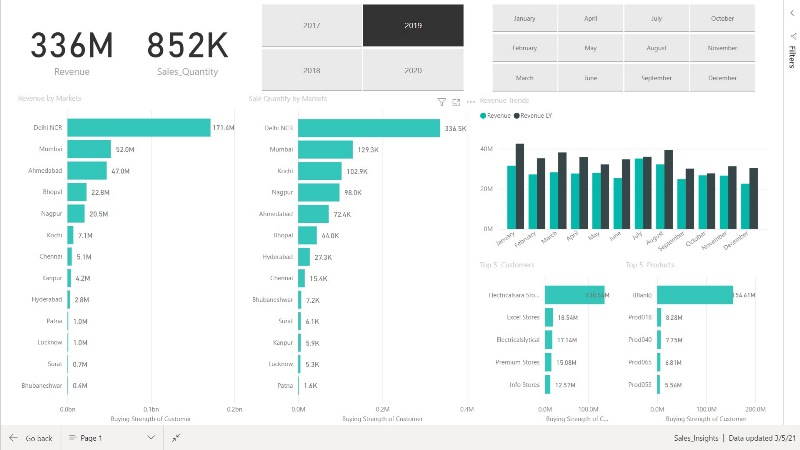

The page's visual inventory and layout, read from the dashboard file:
{"tool":"powerbi","page":{"name":"Page 1","canvas":[1280,720],"ordinal":0},"visuals":[{"type":"card","fields":{"Values":["BaseMeasures.Revenue"]},"box":[0,0,196.2,157.2],"z":0},{"type":"card","fields":{"Values":["BaseMeasures.Sales_Quantity"]},"box":[196.2,0,196.2,157.2],"z":1000},{"type":"barChart","title":"Revenue by Markets","fields":{"Y":["BaseMeasures.Revenue"],"Category":["sales markets.markets_name"]},"box":[1.4,157.2,391,563.5],"z":2000},{"type":"barChart","title":"Sale Quantity by Markets","fields":{"Category":["sales markets.markets_name"],"Y":["BaseMeasures.Sales_Quantity"]},"box":[392.6,157.5,391.4,562.5],"z":3000},{"type":"slicer","fields":{"Values":["sales date.year"]},"box":[393.2,0,391.8,160.9],"z":4000},{"type":"slicer","fields":{"Values":["sales date.cy_date.Variation.Date Hierarchy.Month"]},"box":[784,0,494.8,161.2],"z":5000},{"type":"barChart","title":"Top 5  Customers","fields":{"Category":["sales customers.custmer_name"],"Y":["BaseMeasures.Revenue"]},"box":[784,439.3,247.3,280.7],"z":6000},{"type":"barChart","title":"Top 5  Products","fields":{"Y":["BaseMeasures.Revenue"],"Category":["sales products.product_code"]},"box":[1031.3,439.3,247.3,280.7],"z":7000},{"type":"lineClusteredColumnComboChart","title":"Revenue Trends","fields":{"Y":["BaseMeasures.Revenue","BaseMeasures.Revenue LY"],"Category":["sales date.date.Variation.Date Hierarchy.Month"]},"box":[784,161,495,278],"z":8000}]}

Visuals, with their boxes on the page's 1280x720 design canvas (x1, y1, x2, y2). These are canvas units, not pixel positions in the 800x450 screenshot, which may show the page scaled, cropped or inside an application window:
card - BaseMeasures.Revenue: {"left": 0, "top": 0, "right": 196, "bottom": 157}
card - BaseMeasures.Sales_Quantity: {"left": 196, "top": 0, "right": 392, "bottom": 157}
"Revenue by Markets" barChart: {"left": 1, "top": 157, "right": 392, "bottom": 721}
"Sale Quantity by Markets" barChart: {"left": 393, "top": 158, "right": 784, "bottom": 720}
slicer - sales date.year: {"left": 393, "top": 0, "right": 785, "bottom": 161}
slicer - sales date.cy_date.Variation.Date Hierarchy.Month: {"left": 784, "top": 0, "right": 1279, "bottom": 161}
"Top 5  Customers" barChart: {"left": 784, "top": 439, "right": 1031, "bottom": 720}
"Top 5  Products" barChart: {"left": 1031, "top": 439, "right": 1279, "bottom": 720}
"Revenue Trends" lineClusteredColumnComboChart: {"left": 784, "top": 161, "right": 1279, "bottom": 439}
